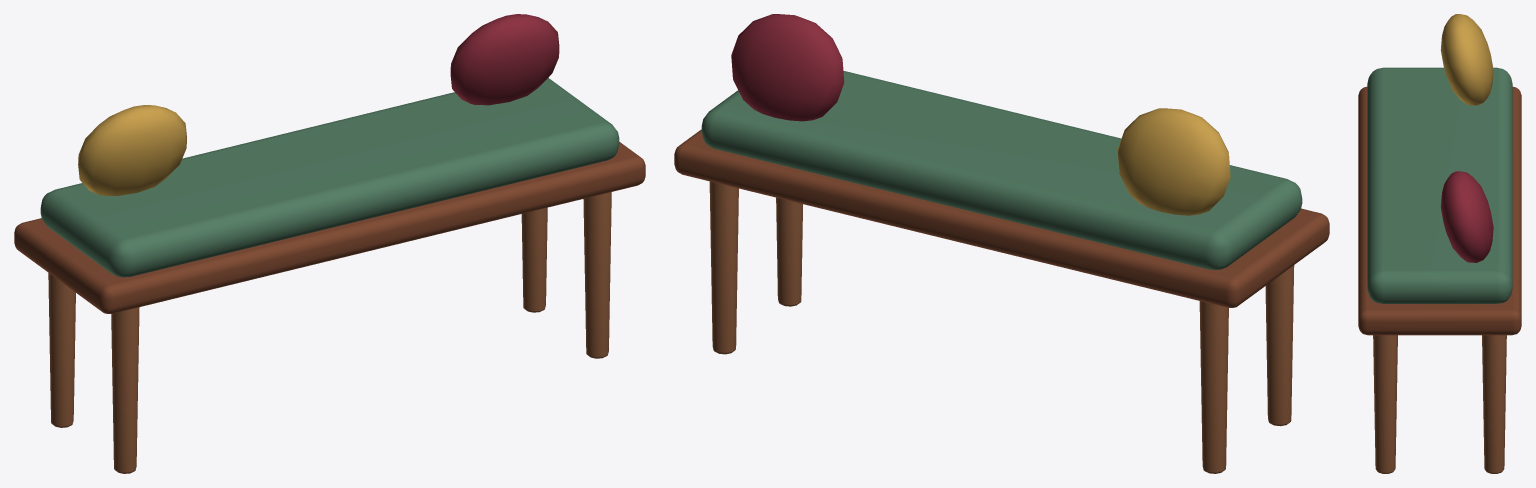
Rendered from cushion-bench.glb.
The picture shows the model from 3 angles, left to right: view 1: azimuth 30°, elevation 25°; view 2: azimuth 150°, elevation 25°; view 3: azimuth 270°, elevation 25°; orthographic projection. The views are drawn at different scales.
Parts seen in each view (by area): view 1: cushion-bench; view 2: cushion-bench; view 3: cushion-bench.
Boxes of the visible parts, left/top/right/bottom form: cushion-bench: left=14, top=14, right=645, bottom=473; cushion-bench: left=674, top=14, right=1329, bottom=473; cushion-bench: left=1358, top=14, right=1521, bottom=473.
Size of the model in its own units: 1.2 by 0.6685 by 0.36.
